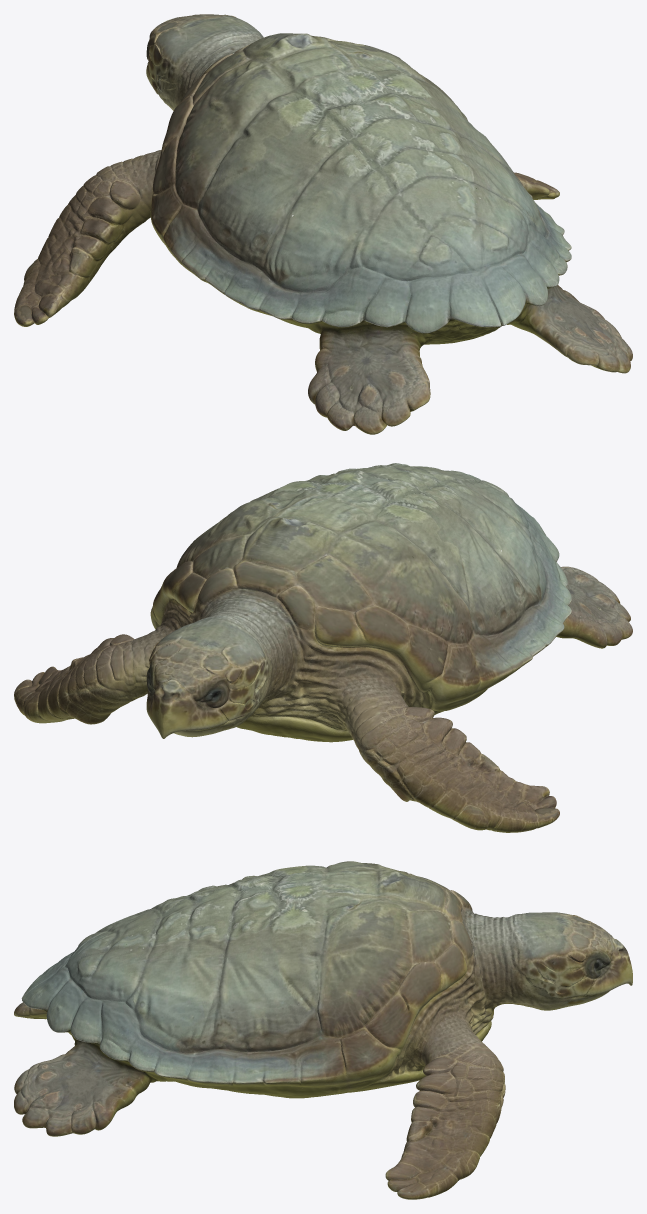
File: sea_turtle_3d_model_3.glb
The picture shows the model from 3 angles, top to bottom: view 1: azimuth 30°, elevation 25°; view 2: azimuth 150°, elevation 25°; view 3: azimuth 270°, elevation 25°; orthographic projection. The views are drawn at different scales.
Parts seen in each view (by area): view 1: tripo_node_2e1a364e-8aa6-495a-a78a-5f04cb914b94; view 2: tripo_node_2e1a364e-8aa6-495a-a78a-5f04cb914b94; view 3: tripo_node_2e1a364e-8aa6-495a-a78a-5f04cb914b94.
Boxes of the visible parts, bbox=[...] form: tripo_node_2e1a364e-8aa6-495a-a78a-5f04cb914b94: bbox=[14, 14, 632, 434]; tripo_node_2e1a364e-8aa6-495a-a78a-5f04cb914b94: bbox=[14, 463, 632, 832]; tripo_node_2e1a364e-8aa6-495a-a78a-5f04cb914b94: bbox=[14, 861, 632, 1199].
Bounding box in the file's own units: 0.902 × 0.3728 × 1.
Materials: 1 (1 with a texture image).
